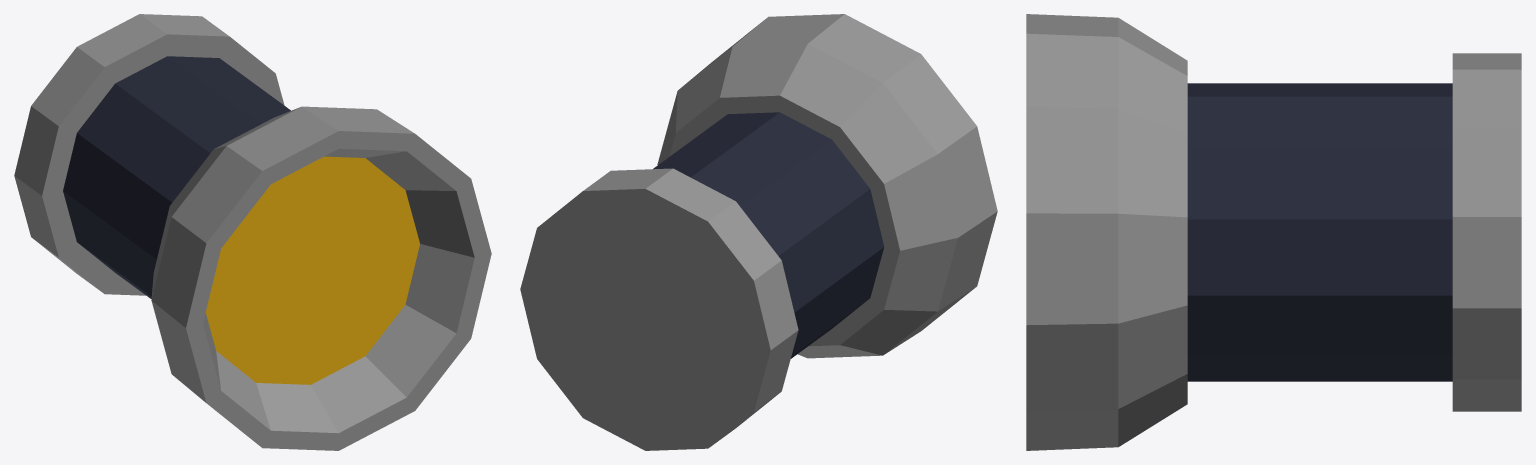
File: Spotlight.fbx
The picture shows the model from 3 angles, left to right: view 1: azimuth 30°, elevation 25°; view 2: azimuth 150°, elevation 25°; view 3: azimuth 270°, elevation 25°; orthographic projection. The views are drawn at different scales.
Parts seen in each view (by area): view 1: Cylinder.001; view 2: Cylinder.001; view 3: Cylinder.001.
Boxes of the visible parts, x1,y1,x2,y2 form: Cylinder.001: [14, 14, 491, 450]; Cylinder.001: [520, 14, 997, 450]; Cylinder.001: [1026, 14, 1521, 450].
Bounding box in the file's own units: 0.7617 × 0.7617 × 0.86.
